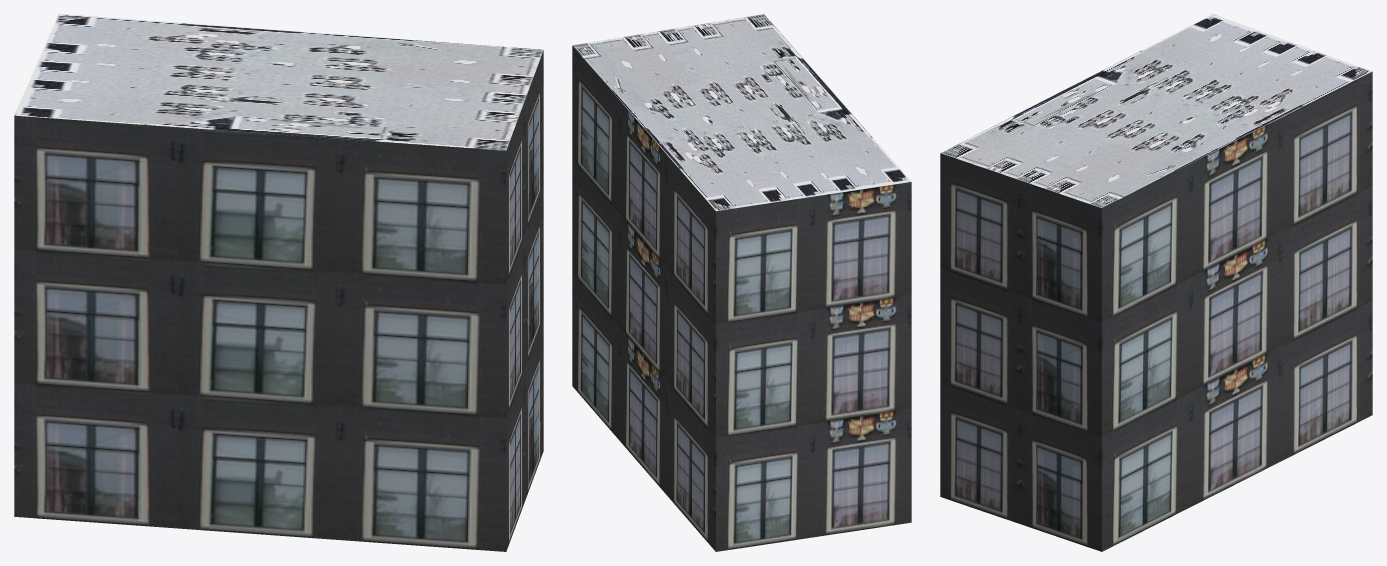
The model's file is ResTex__1319.fbx.
3 renders of one model, left to right at view 1: azimuth 30°, elevation 25°; view 2: azimuth 150°, elevation 25°; view 3: azimuth 270°, elevation 25°, orthographic. The views are drawn at different scales.
Parts seen in each view (by area): view 1: CityEngineMaterial_22_m, CityEngineMaterial_m; view 2: CityEngineMaterial_22_m, CityEngineMaterial_m; view 3: CityEngineMaterial_22_m, CityEngineMaterial_m.
Part boxes in pixels (left/top/right/bottom): CityEngineMaterial_22_m: left=14, top=50, right=543, bottom=551; CityEngineMaterial_m: left=14, top=14, right=543, bottom=150; CityEngineMaterial_22_m: left=572, top=46, right=911, bottom=551; CityEngineMaterial_m: left=572, top=14, right=911, bottom=211; CityEngineMaterial_22_m: left=940, top=71, right=1372, bottom=551; CityEngineMaterial_m: left=941, top=14, right=1371, bottom=207.
Size of the model in its own units: 10.91 by 9 by 10.25.
2 materials, 2 textured.
